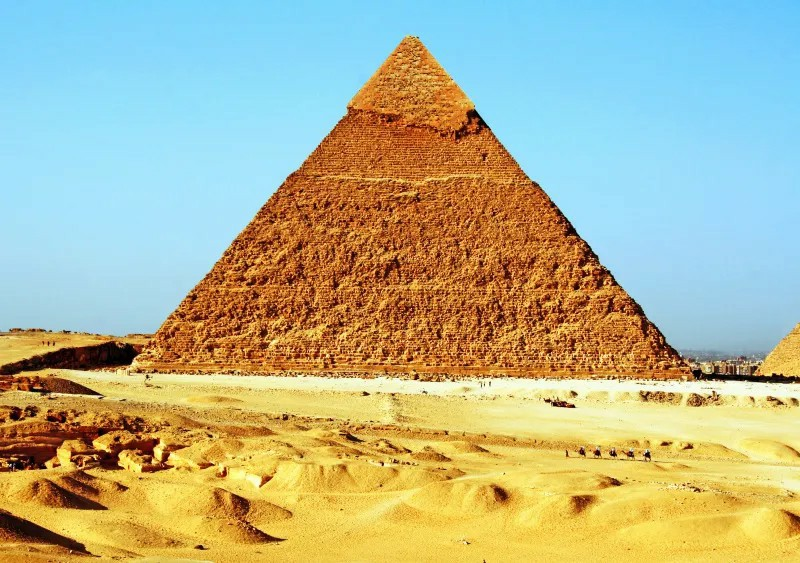Pyramid: (130, 35, 694, 379)
